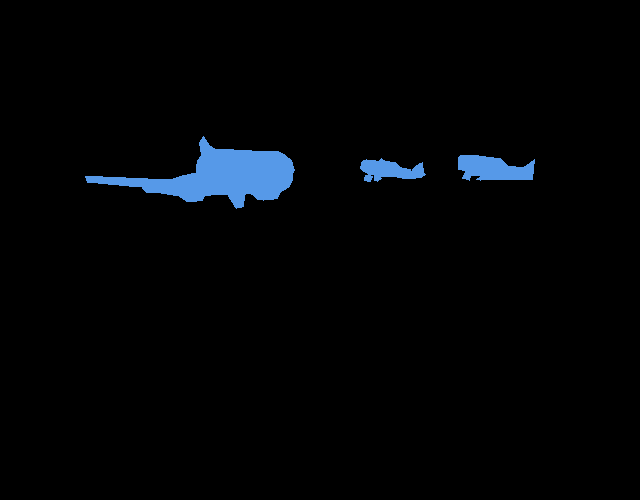Airplane: (85, 136, 294, 209), (458, 155, 534, 181), (360, 158, 425, 181)
